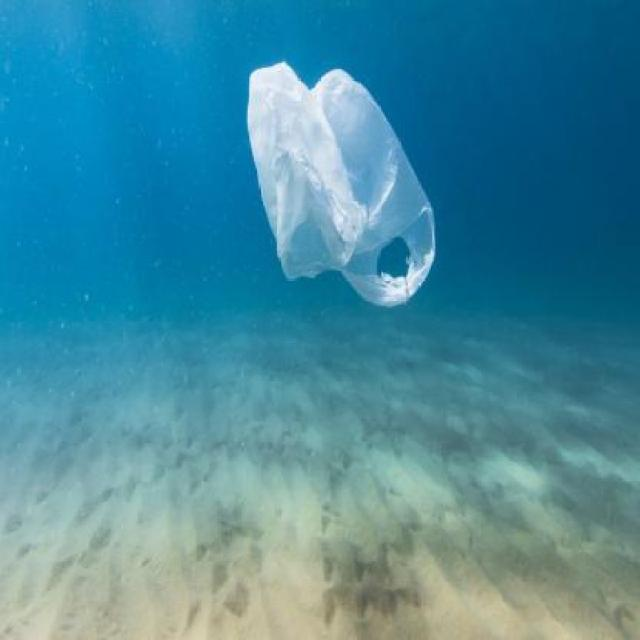plastic bag: (235, 58, 449, 316)
